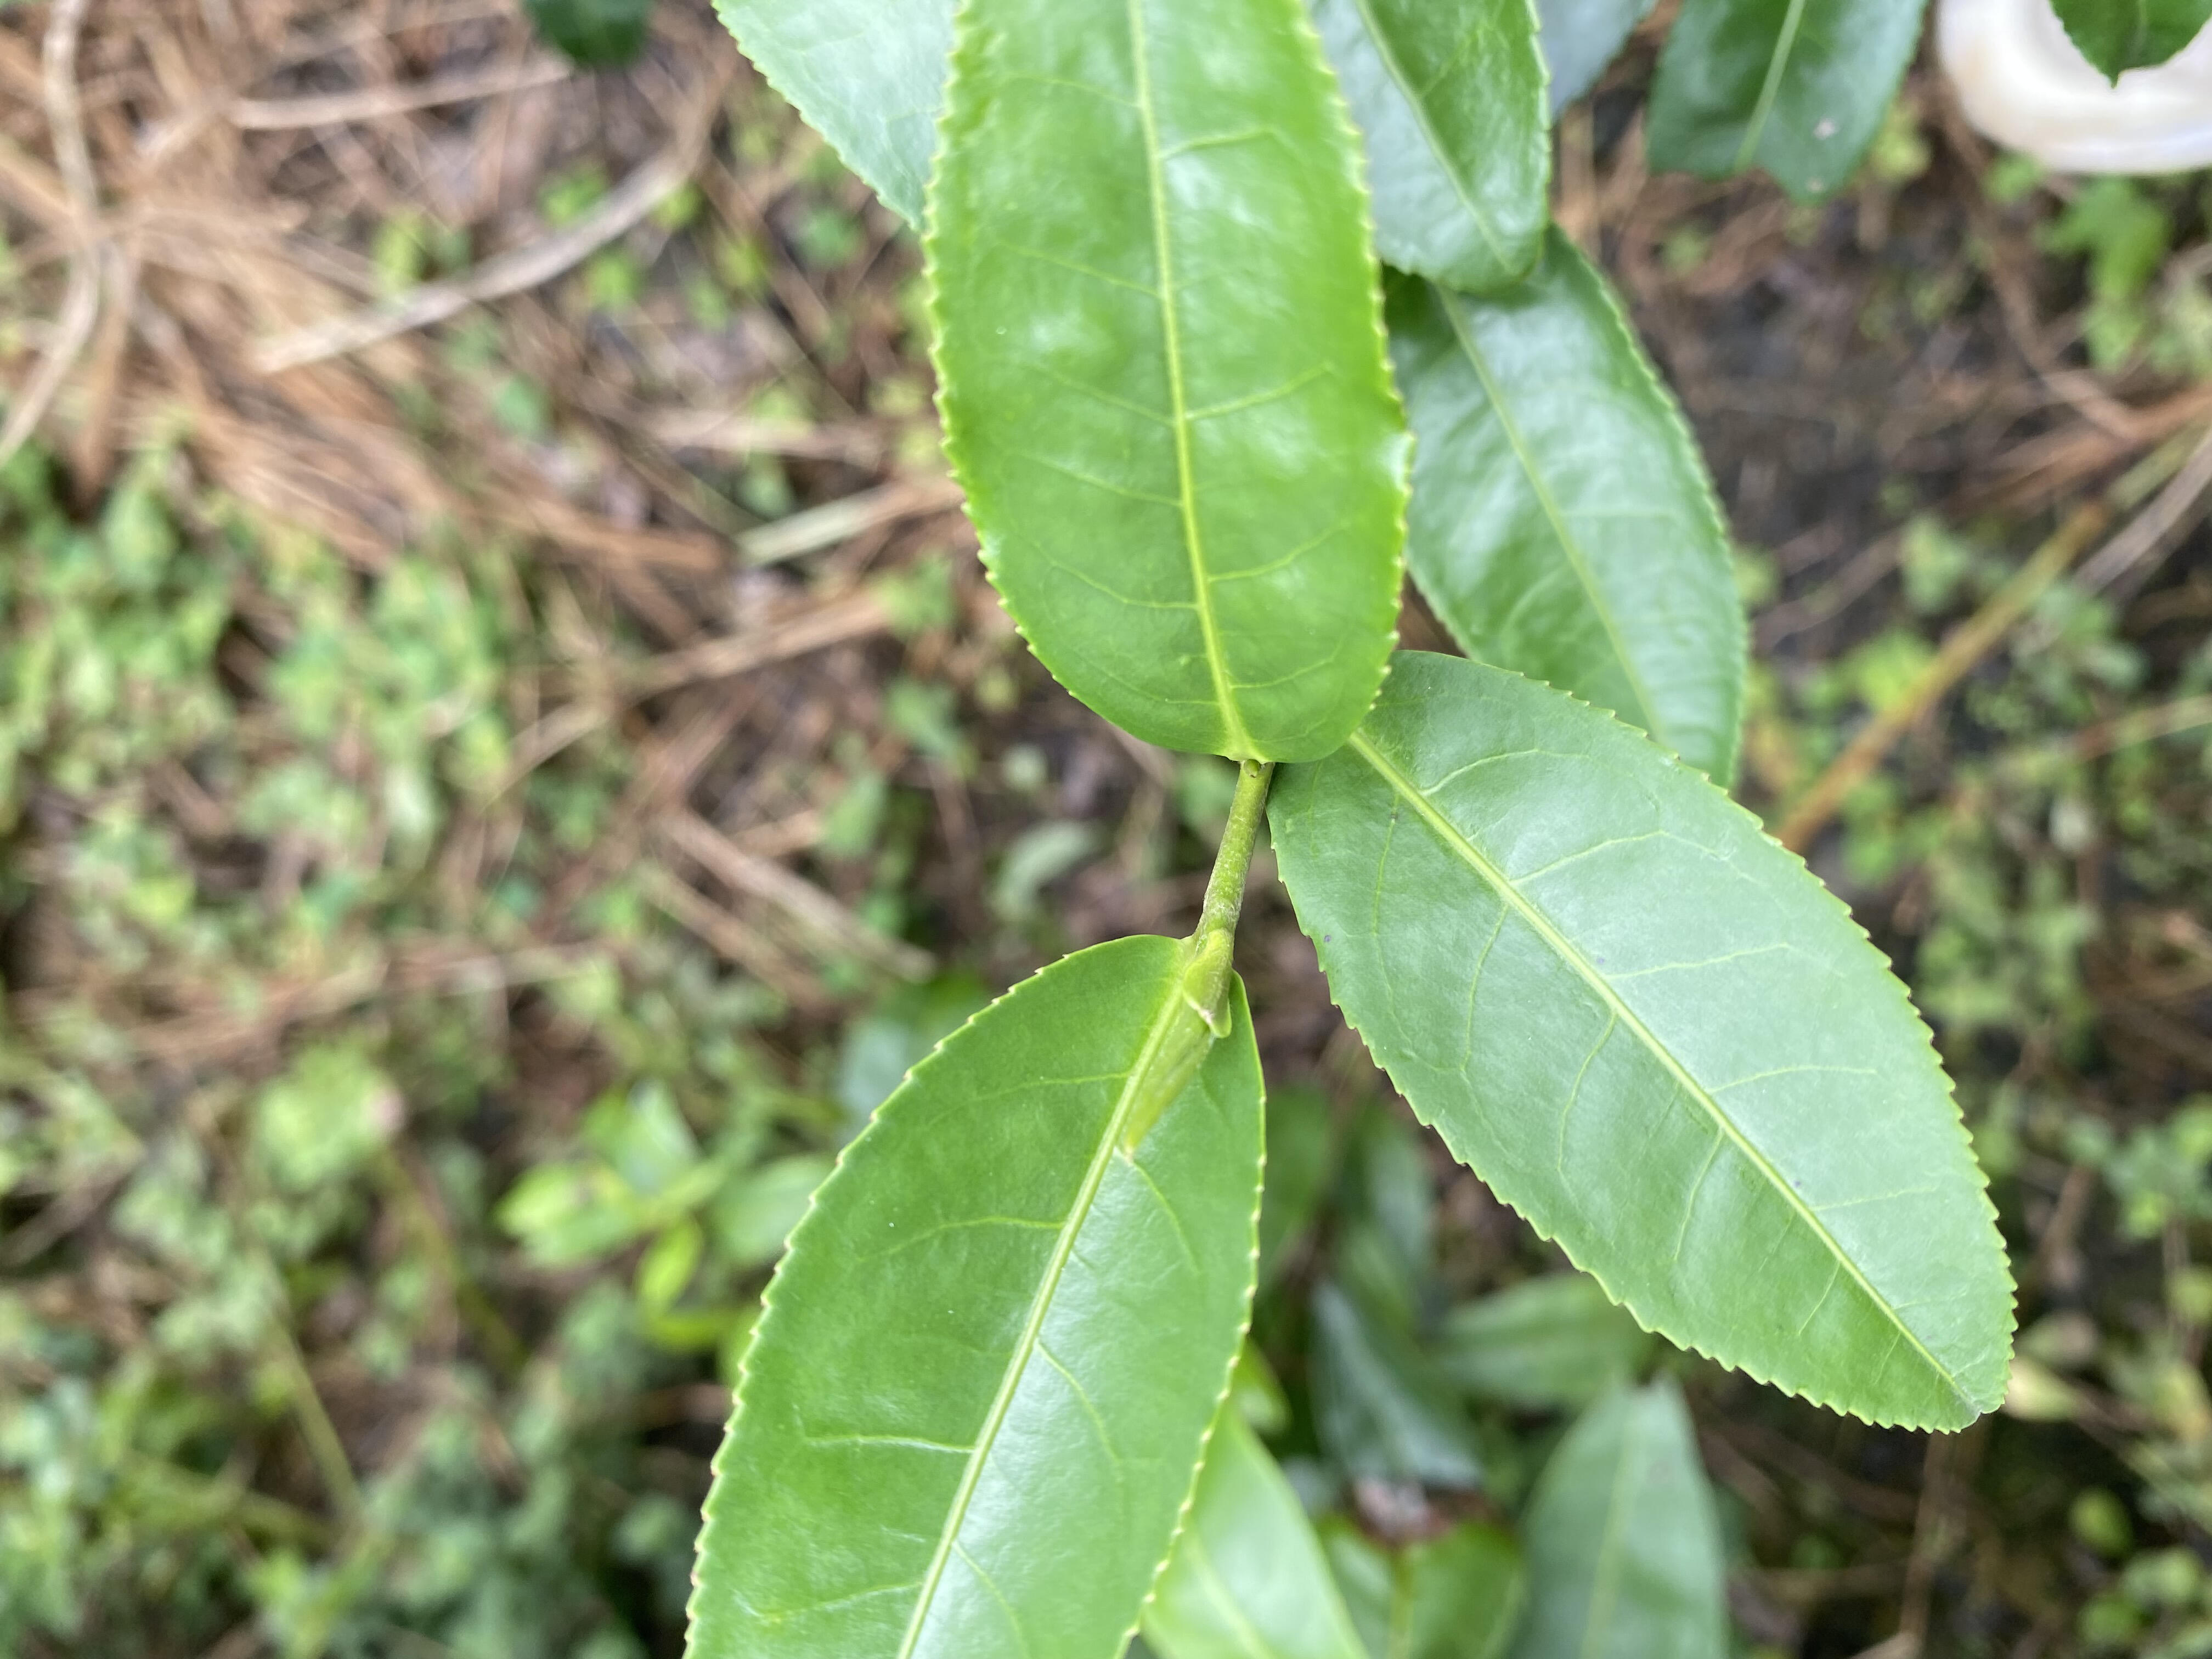healthy: (1264, 647, 2017, 1438), (671, 932, 1266, 1659), (921, 2, 1418, 767), (1383, 220, 1749, 793)
